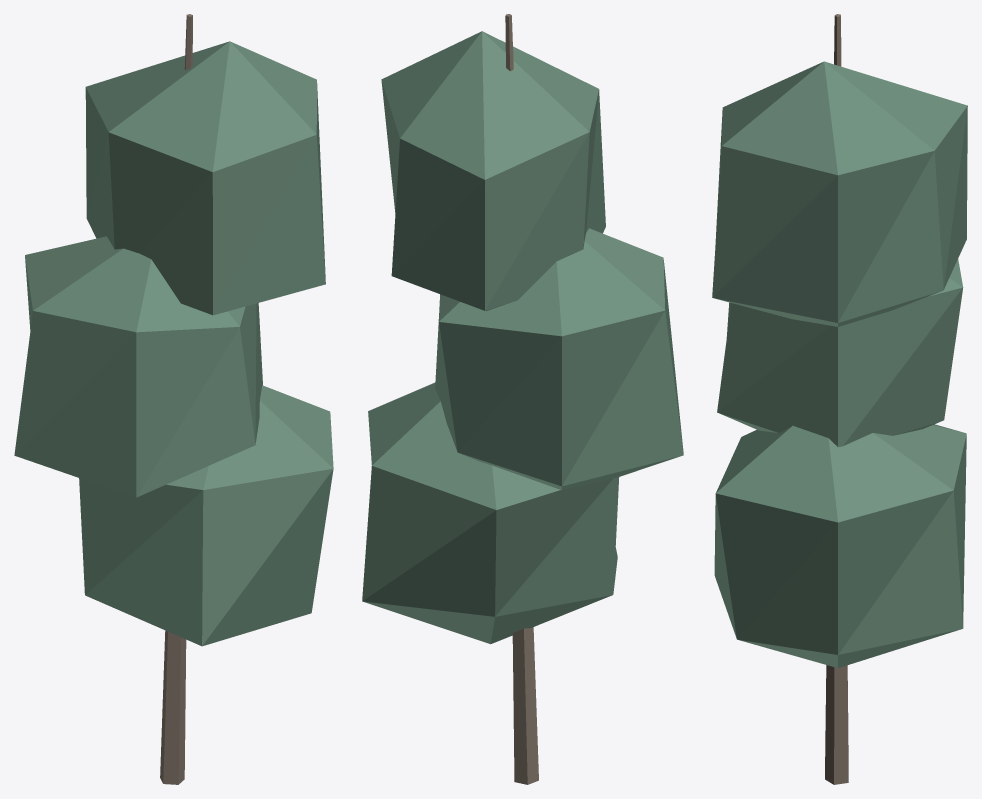
The picture shows the model from 3 angles, left to right: view 1: azimuth 30°, elevation 25°; view 2: azimuth 150°, elevation 25°; view 3: azimuth 270°, elevation 25°; orthographic projection.
Bounding box in the file's own units: 2.66 × 6.12 × 1.84.
